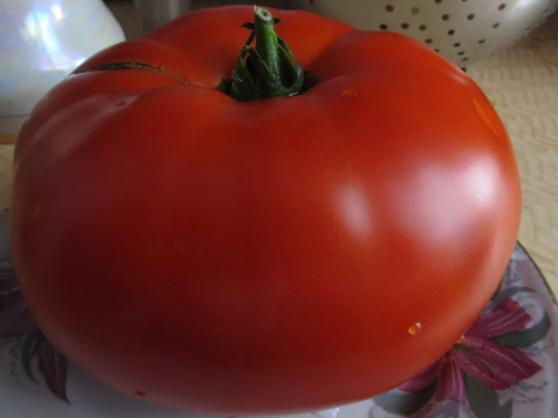tomato: (12, 4, 526, 404)
